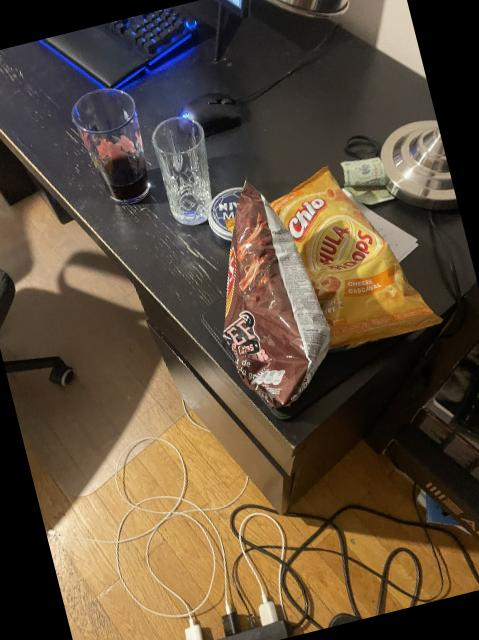Chio Hula Hoops Cheese 70g: (270, 152, 436, 356)
Lays Beef Grilled Ribs 125g: (187, 175, 340, 414)
